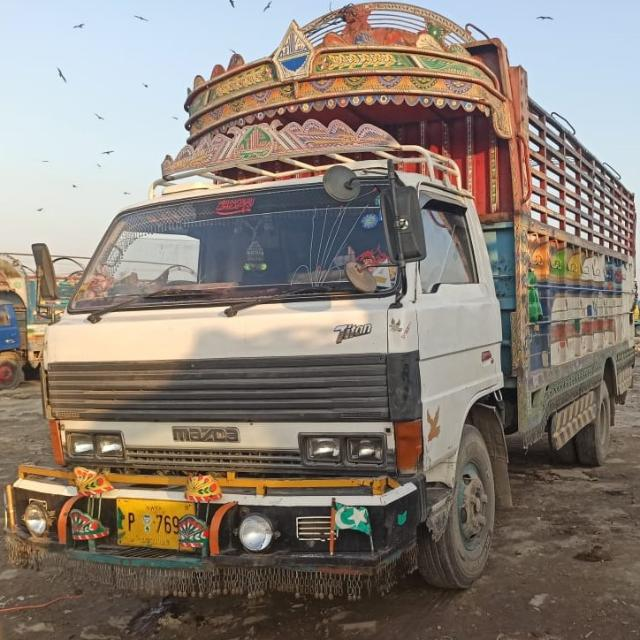plate: (110, 491, 204, 542)
